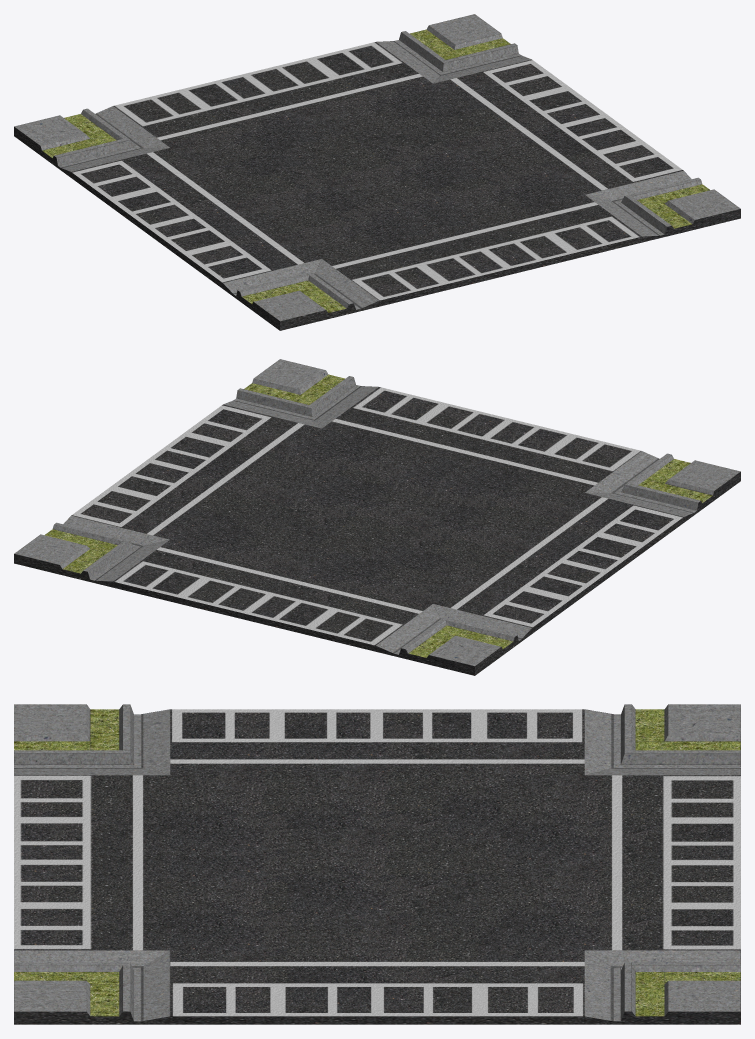
File: Lane-X.glb
3 views of the same model, one above another, from view 1: azimuth 30°, elevation 25°; view 2: azimuth 150°, elevation 25°; view 3: azimuth 270°, elevation 25° (orthographic). The views are drawn at different scales.
Parts seen in each view (by area): view 1: Road-2-Lane-X; view 2: Road-2-Lane-X; view 3: Road-2-Lane-X.
Boxes of the visible parts, x1,y1,x2,y2 form: Road-2-Lane-X: (14,14,740,330); Road-2-Lane-X: (14,359,740,675); Road-2-Lane-X: (14,704,740,1024).
Bounding box in the file's own units: 18 × 0.3624 × 18.
Materials: 1 (1 with a texture image).
